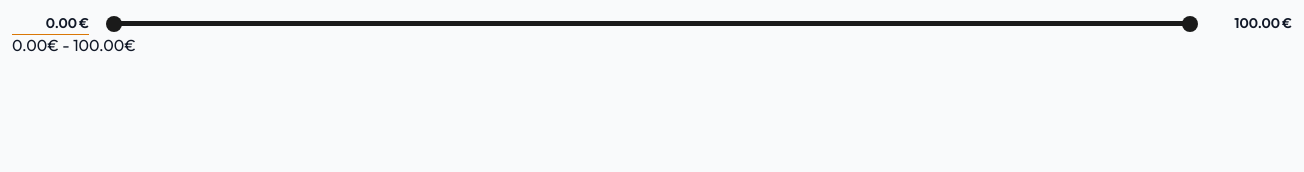
Test: Range Component › clamps values to absolute maximum
The width and height of the screenshot is (1304, 172).
Replace the text in the number field with test id "max-input" with "150". click: (1248, 23)
box: [1215,12,1280,34]
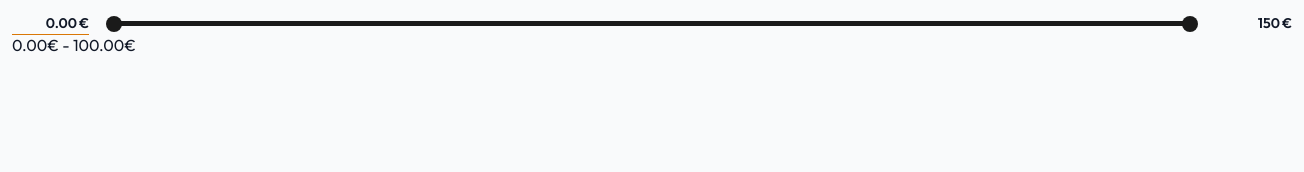
Leave the number field with test id "max-input", box [1215,12,1280,34]
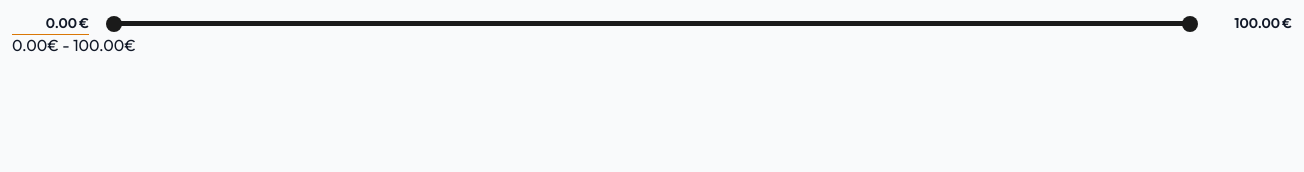
Result: the number field with test id "max-input" holds "100.00" at [1215,12,1280,34]
